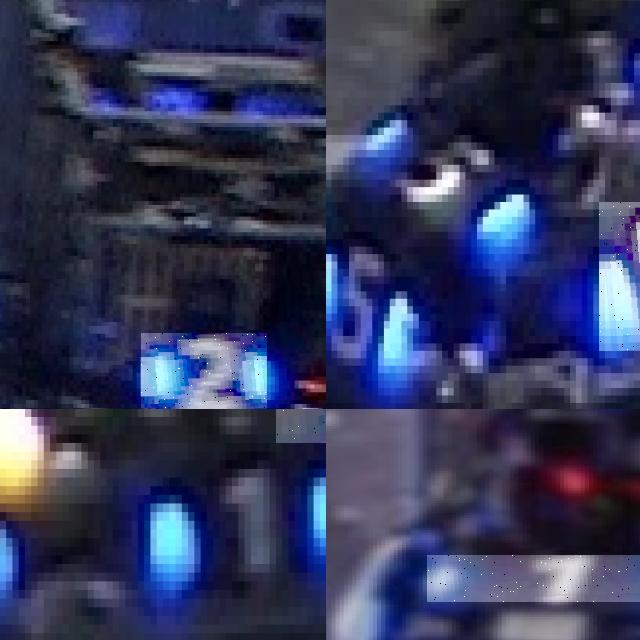B1: (137, 451, 326, 590), (427, 555, 640, 602)
B2: (140, 333, 267, 409)
B5: (361, 98, 529, 239), (326, 231, 412, 373), (599, 202, 640, 351)
